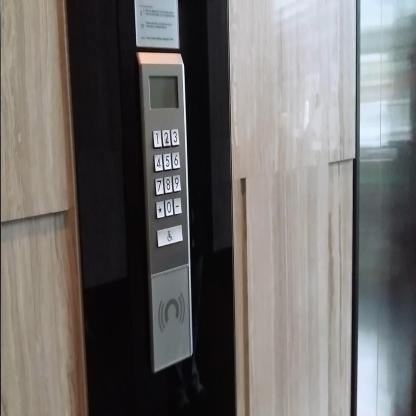-: (173, 197, 182, 215)
0: (164, 198, 174, 216)
1: (151, 129, 162, 148)
2: (162, 128, 171, 147)
3: (170, 128, 180, 147)
4: (153, 152, 163, 172)
5: (162, 152, 171, 171)
6: (171, 151, 180, 170)
7: (154, 176, 164, 196)
8: (163, 174, 172, 194)
9: (171, 173, 181, 192)
CH: (156, 224, 182, 248)
led: (148, 74, 178, 109)
s: (155, 200, 165, 219)
